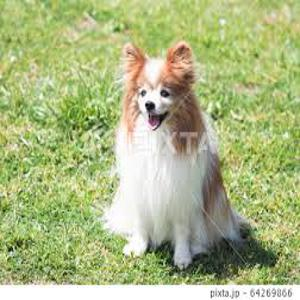yell: (104, 42, 247, 268)
